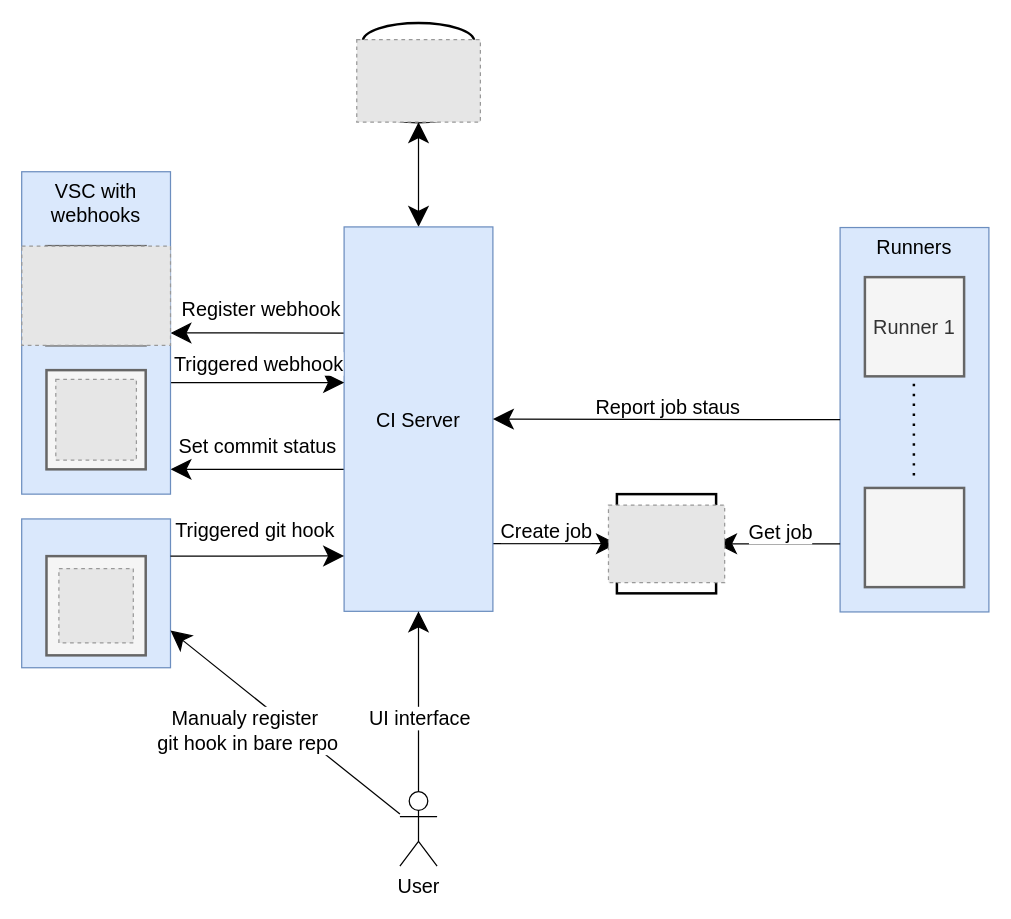
The diagram is 1011 pixels wide and 919 high, and some of its shapes have lost their labels. Grey dashed boxes stand in for pictures. Here are the shapes that lost their labels. From the top down, the box of each, then its label:
(863, 486, 965, 588): Runner N
(20, 518, 170, 668): Pure git
